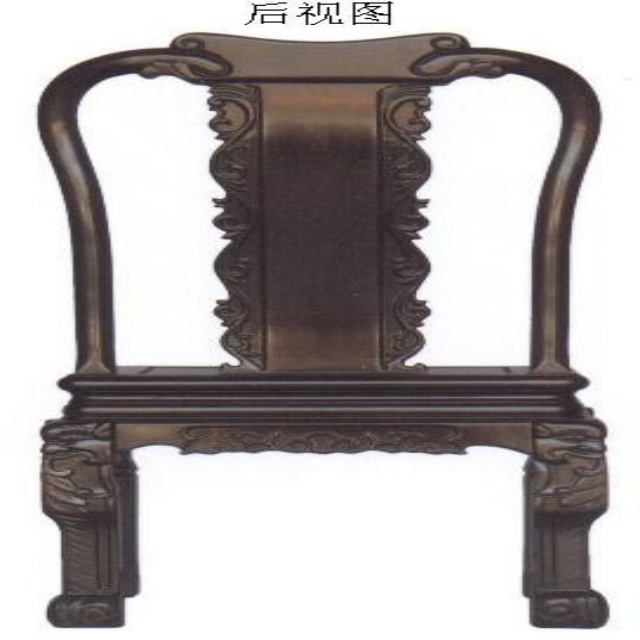obstacle: (40, 33, 605, 627)
